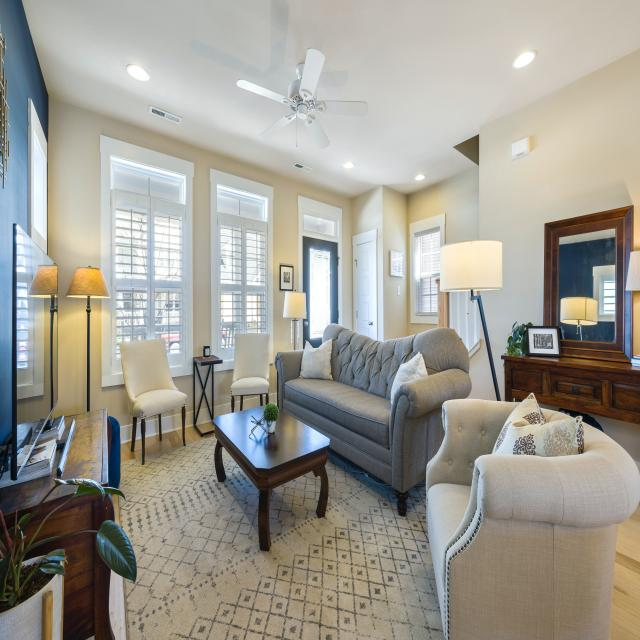floor: (609, 501, 640, 640), (145, 427, 183, 456), (185, 424, 215, 444), (121, 437, 142, 463)
wall: (48, 96, 352, 417), (479, 48, 640, 401), (408, 167, 479, 336), (90, 298, 133, 427), (352, 185, 383, 342), (382, 185, 408, 341), (465, 316, 497, 401), (587, 414, 640, 461), (171, 374, 193, 412), (453, 134, 479, 166), (214, 369, 234, 407), (196, 395, 212, 425), (633, 290, 640, 355), (195, 365, 203, 419), (205, 364, 212, 417), (390, 251, 404, 277), (196, 363, 210, 388), (161, 407, 182, 418), (352, 246, 354, 331), (243, 394, 260, 400), (145, 414, 158, 421), (234, 396, 241, 402), (137, 417, 142, 423), (262, 394, 266, 396)
